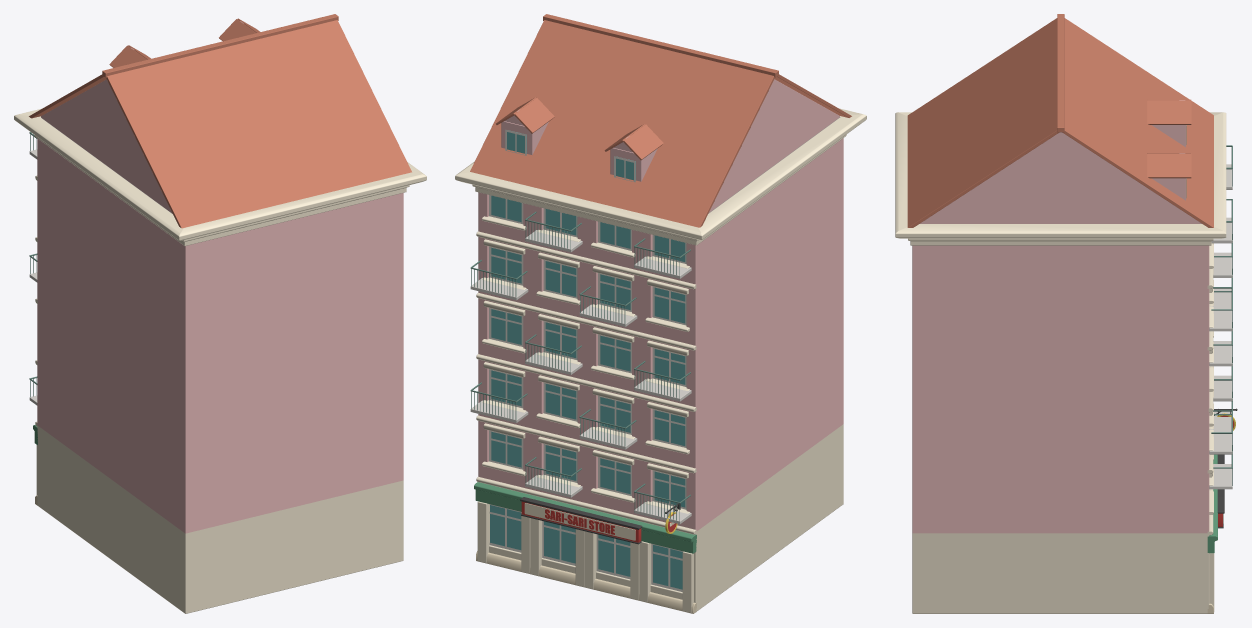
The model's file is far_shophouse_12.glb.
The picture shows the model from 3 angles, left to right: view 1: azimuth 30°, elevation 25°; view 2: azimuth 150°, elevation 25°; view 3: azimuth 270°, elevation 25°; orthographic projection.
Visible parts, largest first — view 1: shell, props, trim; view 2: shell, props, trim, frames, sign_sari_sari_store, sign_sari_sari_store_text; view 3: shell, props, trim.
Boxes of the visible parts, <box> form: shell: <box>37,118,403,613</box>; props: <box>29,14,411,405</box>; trim: <box>14,108,426,505</box>; shell: <box>478,117,843,611</box>; props: <box>470,14,851,524</box>; trim: <box>455,108,866,613</box>; frames: <box>489,129,686,591</box>; sign_sari_sari_store: <box>520,497,642,544</box>; sign_sari_sari_store_text: <box>545,509,614,534</box>; shell: <box>912,245,1209,613</box>; props: <box>907,14,1232,489</box>; trim: <box>895,112,1226,613</box>.
Bounding box in the file's own units: 13.5 × 25.48 × 16.13.
